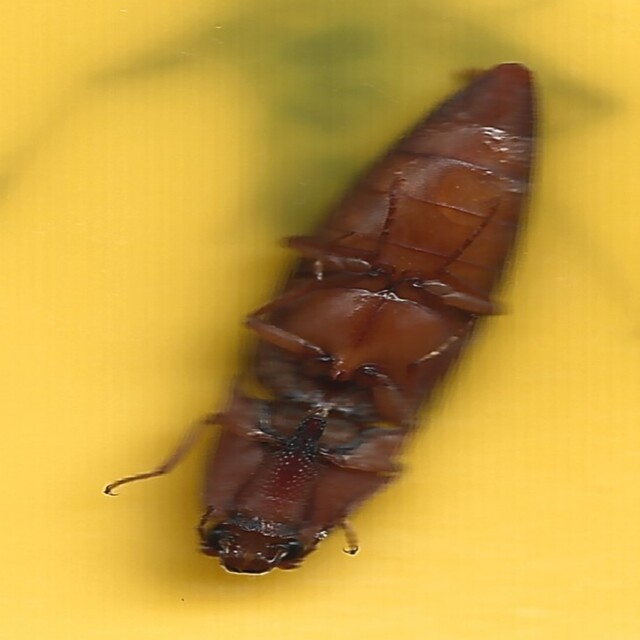Coleoptera: (97, 64, 543, 576)
